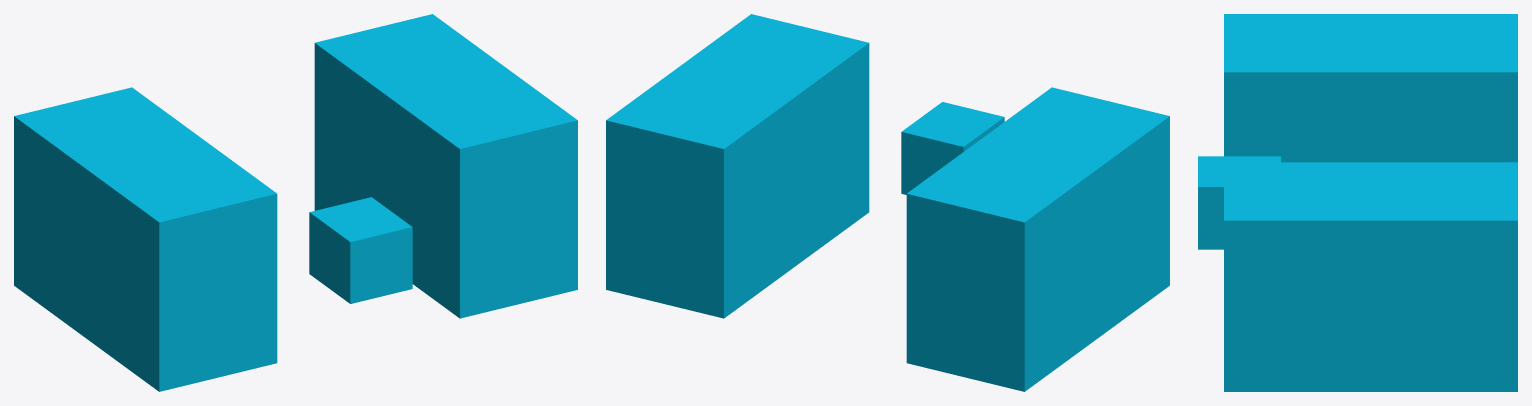
Rendered from royal_guard-collision.glb.
3 views of the same model, side by side, from view 1: azimuth 30°, elevation 25°; view 2: azimuth 150°, elevation 25°; view 3: azimuth 270°, elevation 25° (orthographic).
Parts seen in each view (by area): view 1: Collider_wing_port, Collider_wing_starboard, Collider_body; view 2: Collider_wing_port, Collider_wing_starboard, Collider_body; view 3: Collider_wing_starboard, Collider_wing_port, Collider_body.
Part boxes in pixels (x1,y1,x2,y2): Collider_wing_port: (14, 87, 277, 391); Collider_wing_starboard: (314, 14, 577, 318); Collider_body: (309, 197, 412, 303); Collider_wing_port: (906, 87, 1169, 391); Collider_wing_starboard: (606, 14, 869, 318); Collider_body: (901, 102, 1004, 194); Collider_wing_starboard: (1224, 162, 1517, 391); Collider_wing_port: (1224, 14, 1517, 162); Collider_body: (1198, 156, 1280, 249).
Bounding box in the file's own units: 7.99 × 3.09 × 5.23.
